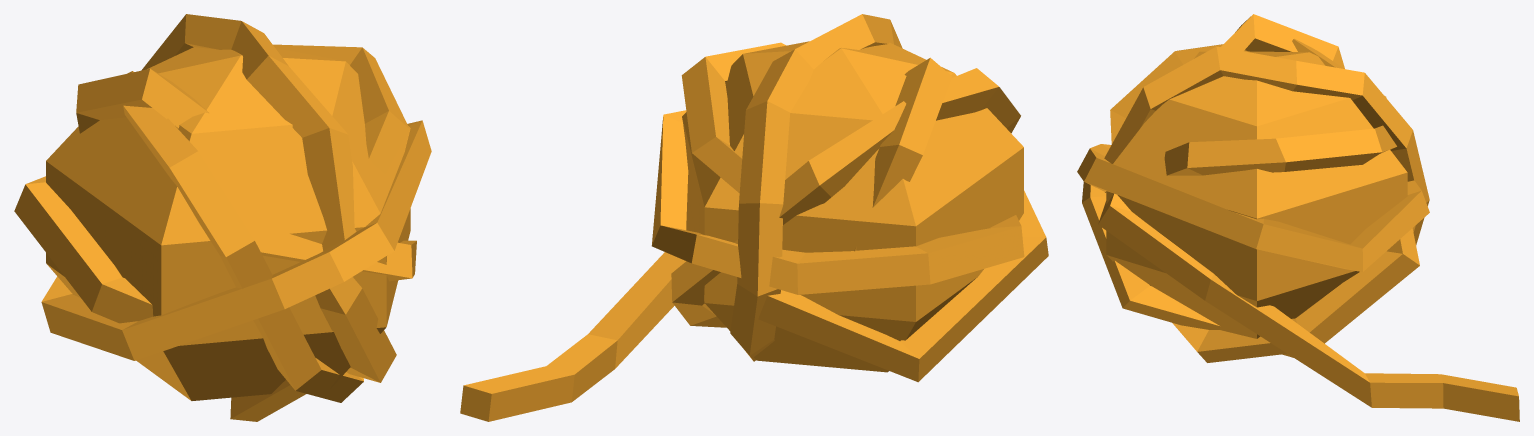
Rendered from SM_Toy_Yarn_Ball.fbx.
The picture shows the model from 3 angles, left to right: view 1: azimuth 30°, elevation 25°; view 2: azimuth 150°, elevation 25°; view 3: azimuth 270°, elevation 25°; orthographic projection. The views are drawn at different scales.
Parts seen in each view (by area): view 1: SM_Toy_Yarn_Ball; view 2: SM_Toy_Yarn_Ball; view 3: SM_Toy_Yarn_Ball.
Part boxes in pixels (x1=…): SM_Toy_Yarn_Ball: x1=14, y1=14, x2=431, y2=421; SM_Toy_Yarn_Ball: x1=460, y1=14, x2=1048, y2=421; SM_Toy_Yarn_Ball: x1=1077, y1=14, x2=1519, y2=421.
Bounding box in the file's own units: 0.1075 × 0.091 × 0.1227.
